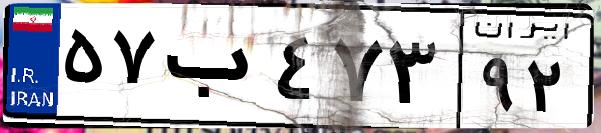2: (525, 38, 570, 115)
3: (385, 28, 445, 110)
4: (270, 28, 330, 110)
5: (57, 26, 110, 100)
7: (330, 28, 385, 110), (110, 28, 158, 98)
9: (475, 38, 525, 113)
ب: (158, 20, 270, 120)
